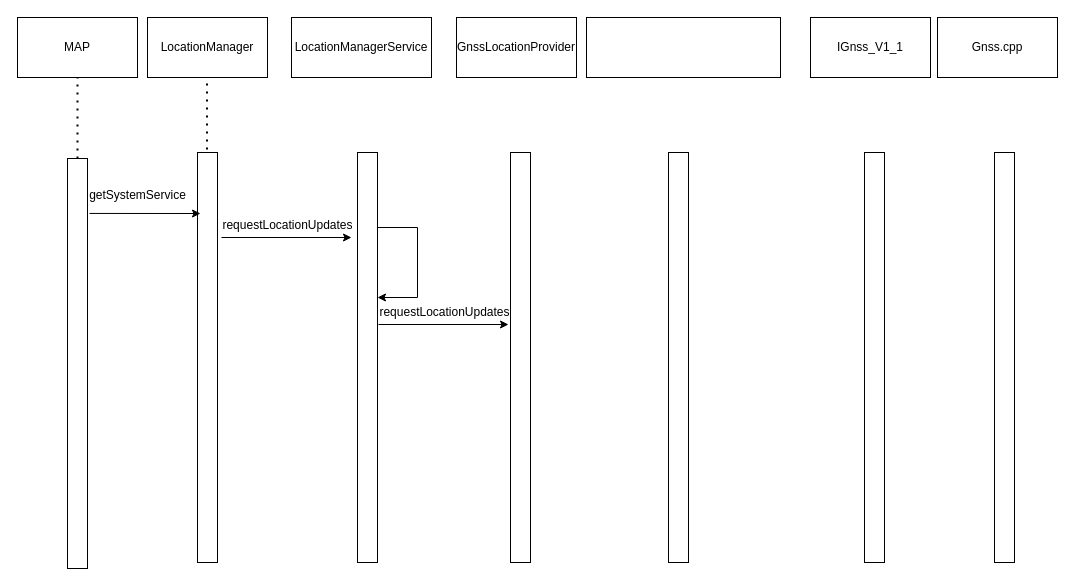
This 1075x586 diagram has some shape labels left out. The shapes that lost their labels are listed below. From the top down, each one's box as (x1, y1, x2, y2) in pixels, then its label:
(586, 16, 780, 78): com_android_server_ location_GnssLocationProvider.cpp
(356, 152, 378, 562): requestLocationUpdatesLocked
